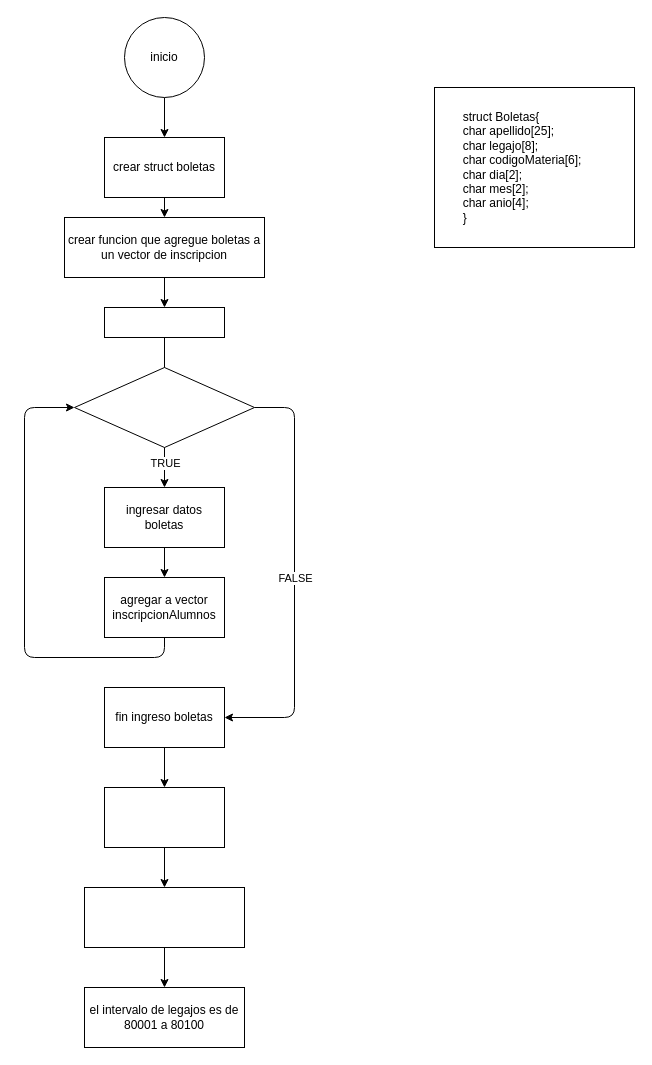
The diagram is 652 pixels wide and 1065 high, and some of its shapes have lost their labels. Each missing label, with the centre of its shape:
generar procedimiento ordenarLegajo(): (164,817)
int legajo = 1: (164,322)
ordenar por legajo los inscriptos 1 o mas veces: (164,917)
while legajo != 0: (164,407)
